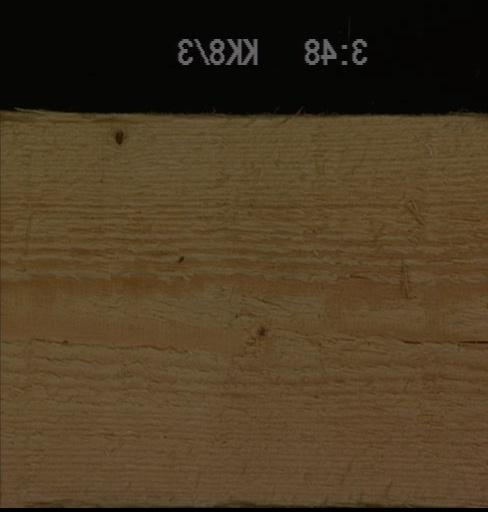dry_knot: (112, 125, 126, 147)
small_knot: (251, 320, 270, 341)
split: (391, 332, 486, 347)
wave: (0, 108, 300, 118), (17, 497, 278, 507)
